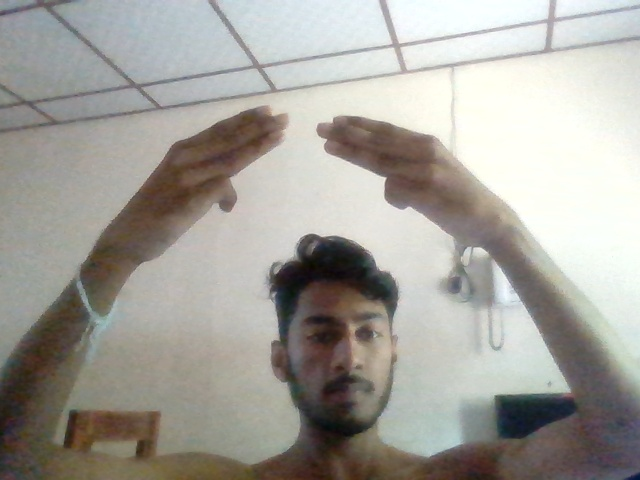ThankYou: (107, 106, 515, 263)
